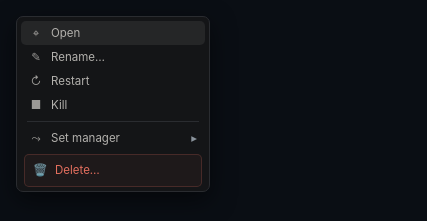
Test: AgentContextMenu — set-manager submenu › Escape peels the submenu before the menu (LIFO)
Click the menu item "⤳ Set manager ▸" at (113, 138), box [21, 126, 205, 150]
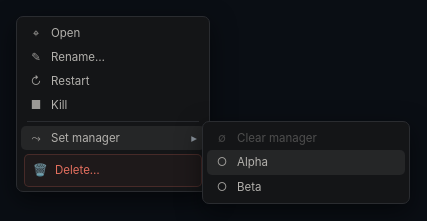
Press Escape in the menu named "Set manager for", box [202, 121, 410, 204]
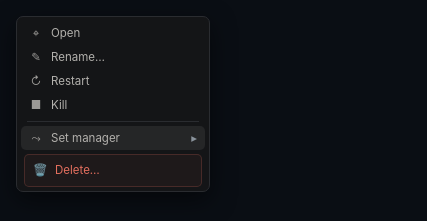
expect the menu item "⤳ Set manager ▸" is shown: met, box [21, 126, 205, 150]
expect the menu item "Beta" is gone: met
